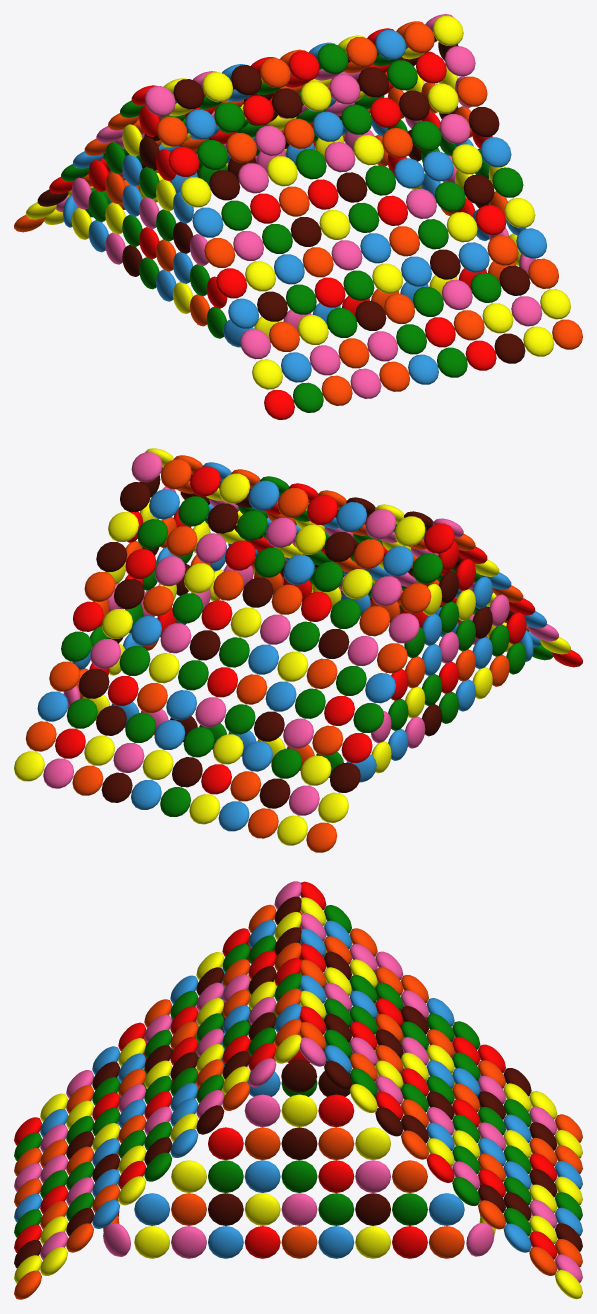
The model's file is roof_marble.FBX.
3 renders of one model, top to bottom at view 1: azimuth 30°, elevation 25°; view 2: azimuth 150°, elevation 25°; view 3: azimuth 270°, elevation 25°, orthographic. The views are drawn at different scales.
Visible parts, largest first — view 1: roof_marble; view 2: roof_marble; view 3: roof_marble.
Part boxes in pixels (left/top/right/bottom): roof_marble: left=14, top=14, right=582, bottom=419; roof_marble: left=14, top=448, right=582, bottom=852; roof_marble: left=14, top=881, right=582, bottom=1299.
Bounding box in the file's own units: 85.89 × 61.28 × 121.
